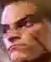kevin: (0, 0, 49, 60)
